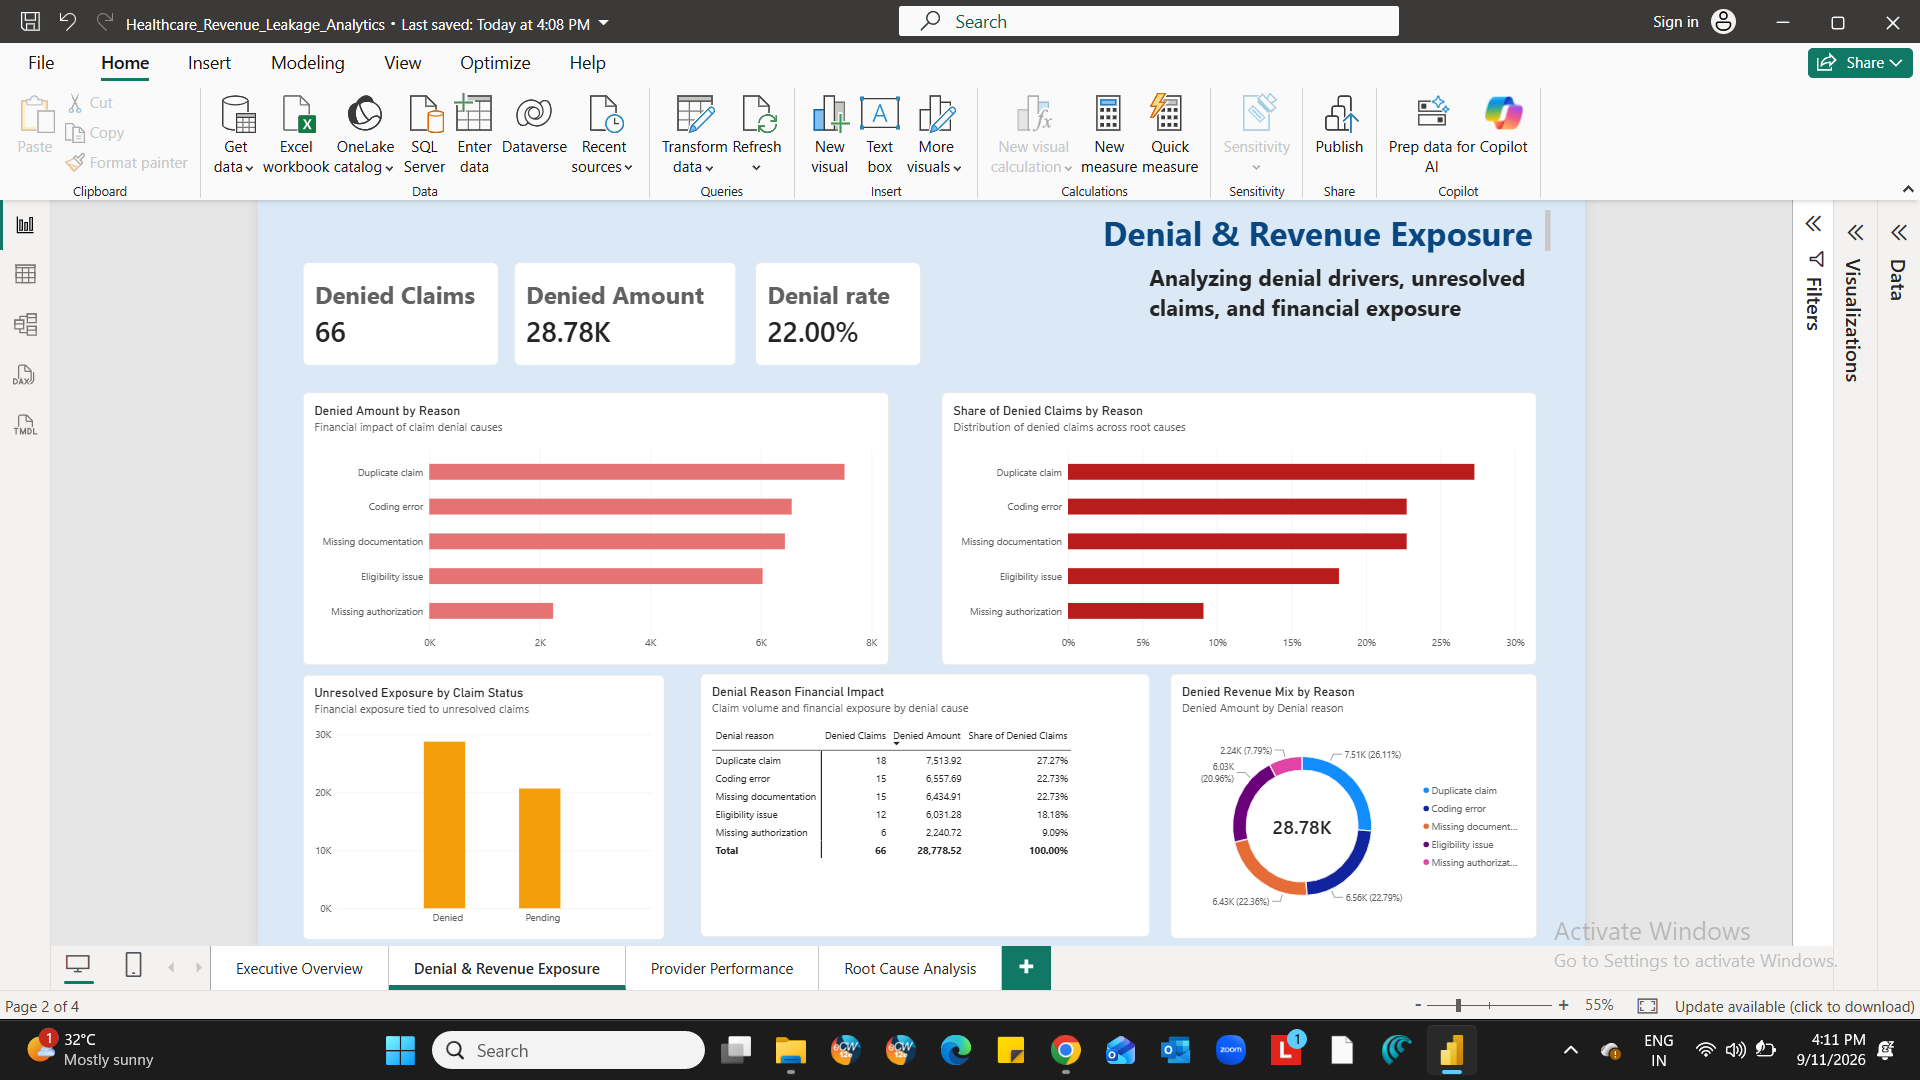

What the dashboard file says about the page in this screenshot:
{"tool":"powerbi","page":{"name":"Denial & Revenue Exposure","canvas":[1920,1080],"ordinal":1},"visuals":[{"type":"cardVisual","fields":{"Data":["DateTable.Denied Amount"]},"box":[371.7,89.7,321.3,149.4],"z":0},{"type":"cardVisual","fields":{"Data":["claims.Denied Claims"]},"box":[65.4,89.7,283.9,149.4],"z":1000},{"type":"cardVisual","fields":{"Data":["claims.Denial rate"]},"box":[721.1,89.7,239.1,149.4],"z":2000},{"type":"clusteredBarChart","title":"Denied Amount by Reason","fields":{"Category":["claims.denial_reason"],"Y":["DateTable.Denied Amount"]},"box":[65.4,278.3,848.1,394.2],"z":3000},{"type":"clusteredBarChart","title":"Share of Denied Claims by Reason","fields":{"Category":["claims.denial_reason"],"Y":["claims.Denial Share by Reason"]},"box":[990.1,278.3,861.2,394.2],"z":4000},{"type":"clusteredColumnChart","title":"Unresolved Exposure by Claim Status","fields":{"Category":["claims.claim_status"],"Y":["claims.Unresolved Exposure by Claim Status"]},"box":[65.4,687.5,523.1,383],"z":5000},{"type":"donutChart","title":"Denied Revenue Mix by Reason","fields":{"Category":["claims.denial_reason"],"Y":["DateTable.Denied Amount"]},"box":[1320.7,685.6,530.5,383],"z":6000},{"type":"pivotTable","title":"Denial Reason Financial Impact","fields":{"Rows":["claims.denial_reason"],"Values":["claims.Denied Claims","DateTable.Denied Amount","claims.Denial Share by Reason"]},"box":[640.7,685.6,650.1,381.1],"z":7000},{"type":"textbox","box":[1223.6,14.9,648.2,61.6],"z":7001},{"type":"textbox","box":[1290.8,89.7,581,149.4],"z":7002}]}

Visuals, with their boxes on the page's 1920x1080 design canvas (x1, y1, x2, y2). These are canvas units, not pixel positions in the 1920x1080 screenshot, which may show the page scaled, cropped or inside an application window:
cardVisual - DateTable.Denied Amount: locate(372, 90, 693, 239)
cardVisual - claims.Denied Claims: locate(65, 90, 349, 239)
cardVisual - claims.Denial rate: locate(721, 90, 960, 239)
"Denied Amount by Reason" clusteredBarChart: locate(65, 278, 914, 672)
"Share of Denied Claims by Reason" clusteredBarChart: locate(990, 278, 1851, 672)
"Unresolved Exposure by Claim Status" clusteredColumnChart: locate(65, 688, 588, 1070)
"Denied Revenue Mix by Reason" donutChart: locate(1321, 686, 1851, 1069)
"Denial Reason Financial Impact" pivotTable: locate(641, 686, 1291, 1067)
textbox: locate(1224, 15, 1872, 76)
textbox: locate(1291, 90, 1872, 239)
